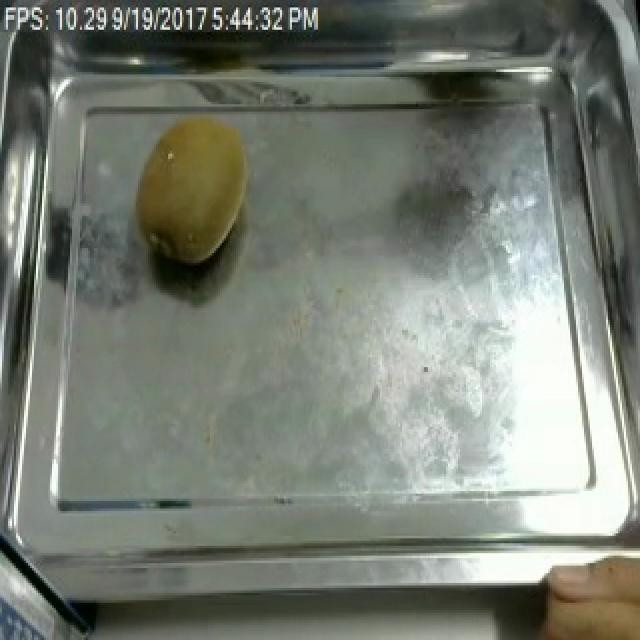Fruit: (128, 109, 258, 275)
